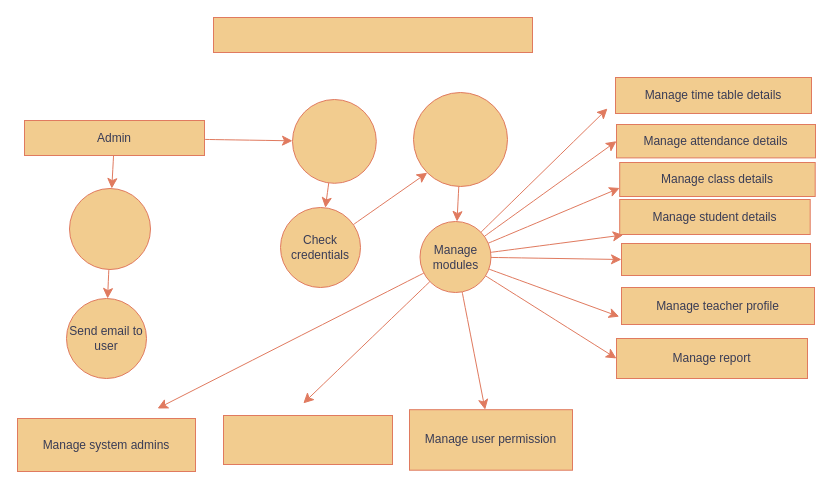
Some shapes in this 833 by 489 pixel diagram are drawn without their labels. The centre of each missing label's shape, as x and y in pixels:
Check roles of access: [460,139]
Forget password: [109,229]
Login to system: [334,140]
Manage fees details: [715,259]
Manage roles of user: [307,439]
Student information system: [372,34]
